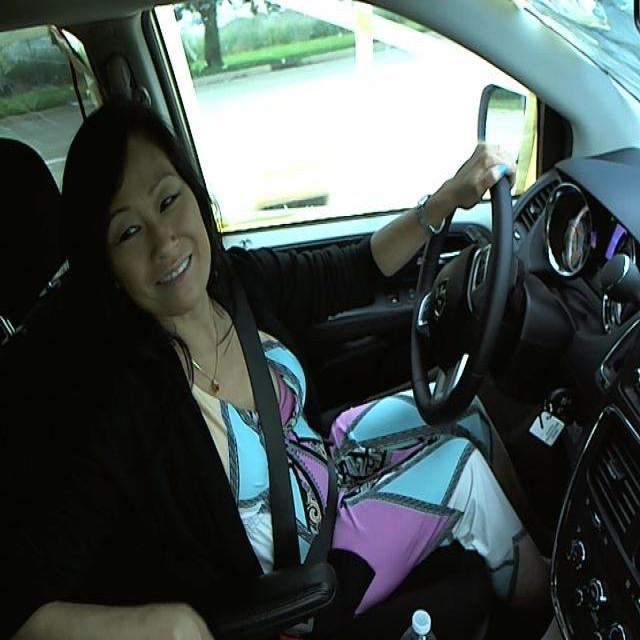seatbelt: (229, 312, 346, 567)
